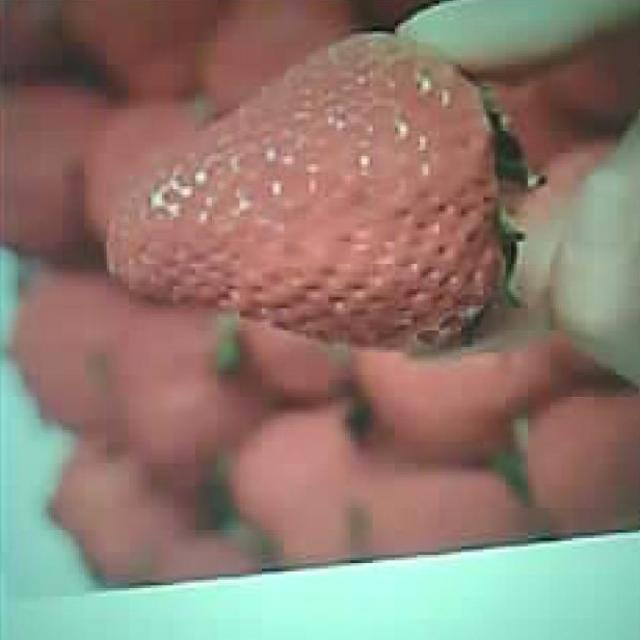Healthy Fruit: (101, 31, 529, 352)
